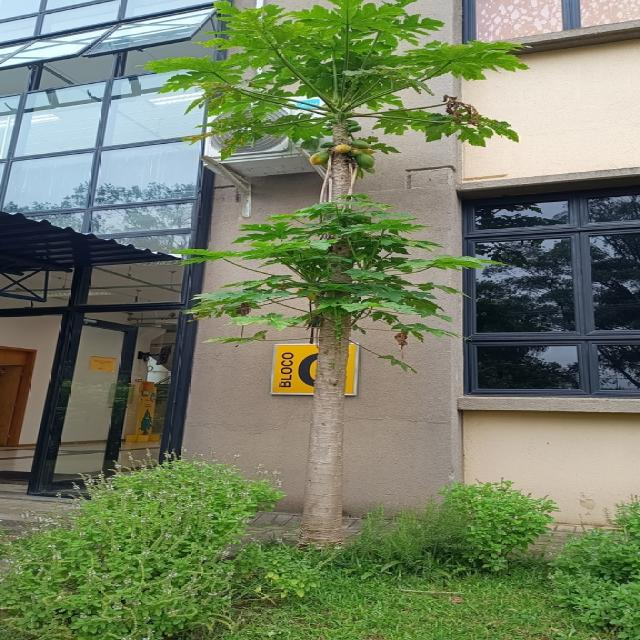Papaya-Tree: (153, 1, 513, 542)
